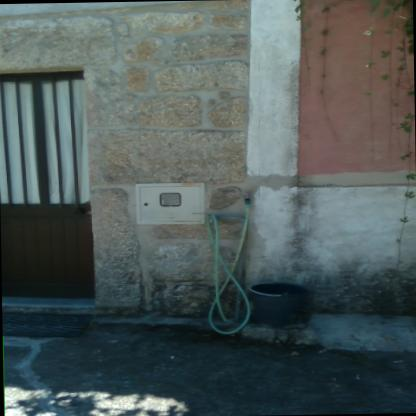closed: (0, 60, 112, 304)
